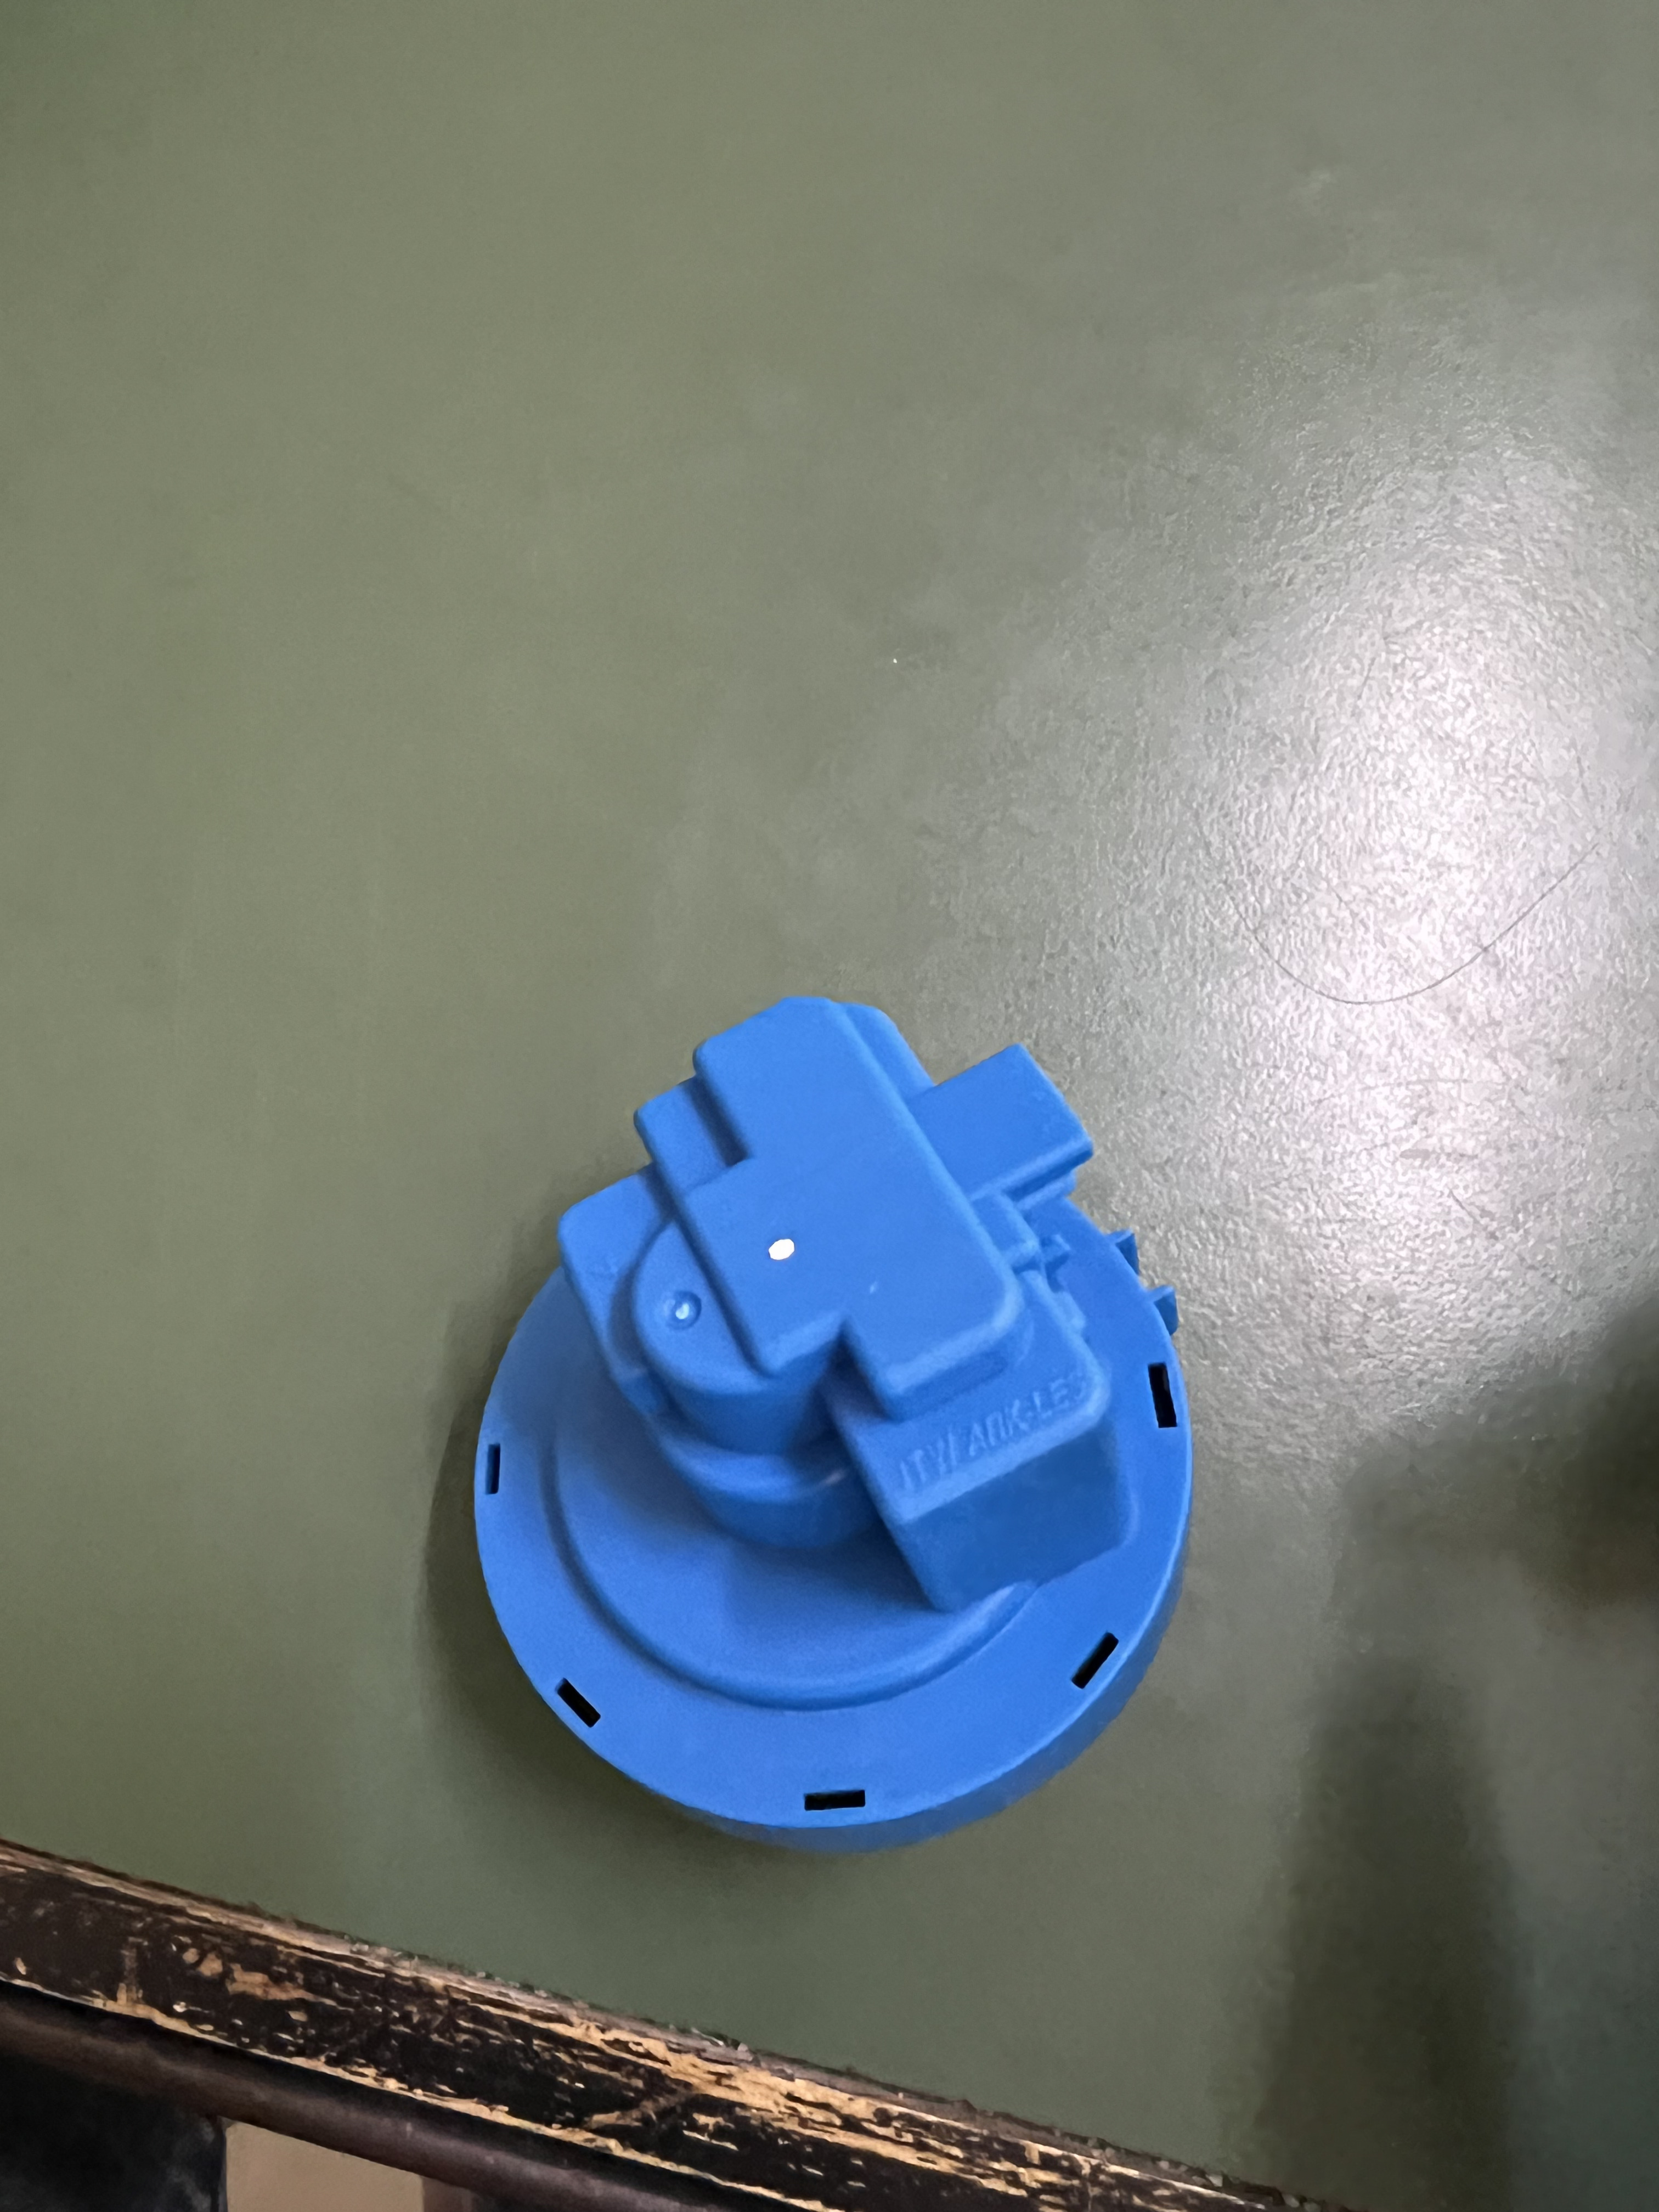voltas_beko_pressure_switch: (471, 984, 1241, 1902)
